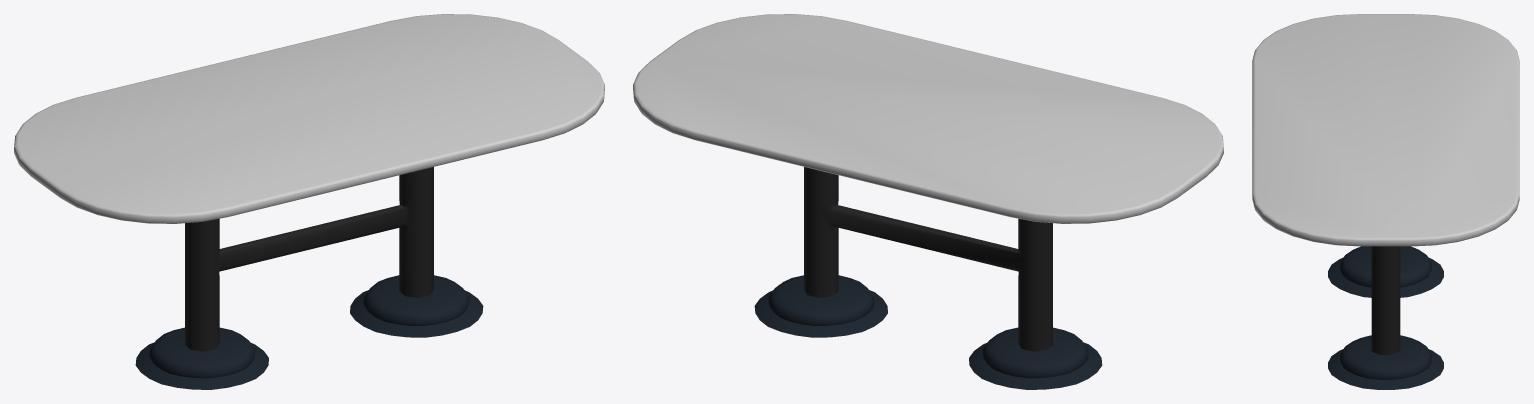
The model's file is Vip-Table-1.fbx.
The picture shows the model from 3 angles, left to right: view 1: azimuth 30°, elevation 25°; view 2: azimuth 150°, elevation 25°; view 3: azimuth 270°, elevation 25°; orthographic projection. The views are drawn at different scales.
Parts seen in each view (by area): view 1: Vip-Table-1; view 2: Vip-Table-1; view 3: Vip-Table-1.
Boxes of the visible parts, bbox=[...] form: Vip-Table-1: bbox=[14, 14, 604, 389]; Vip-Table-1: bbox=[633, 14, 1223, 389]; Vip-Table-1: bbox=[1252, 14, 1519, 389].
Size of the model in its own units: 2 by 0.8 by 1.
